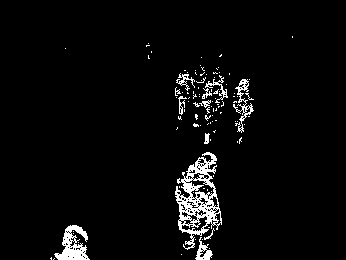person: (174, 151, 223, 260), (198, 76, 227, 150), (232, 76, 256, 147), (174, 69, 193, 126)
